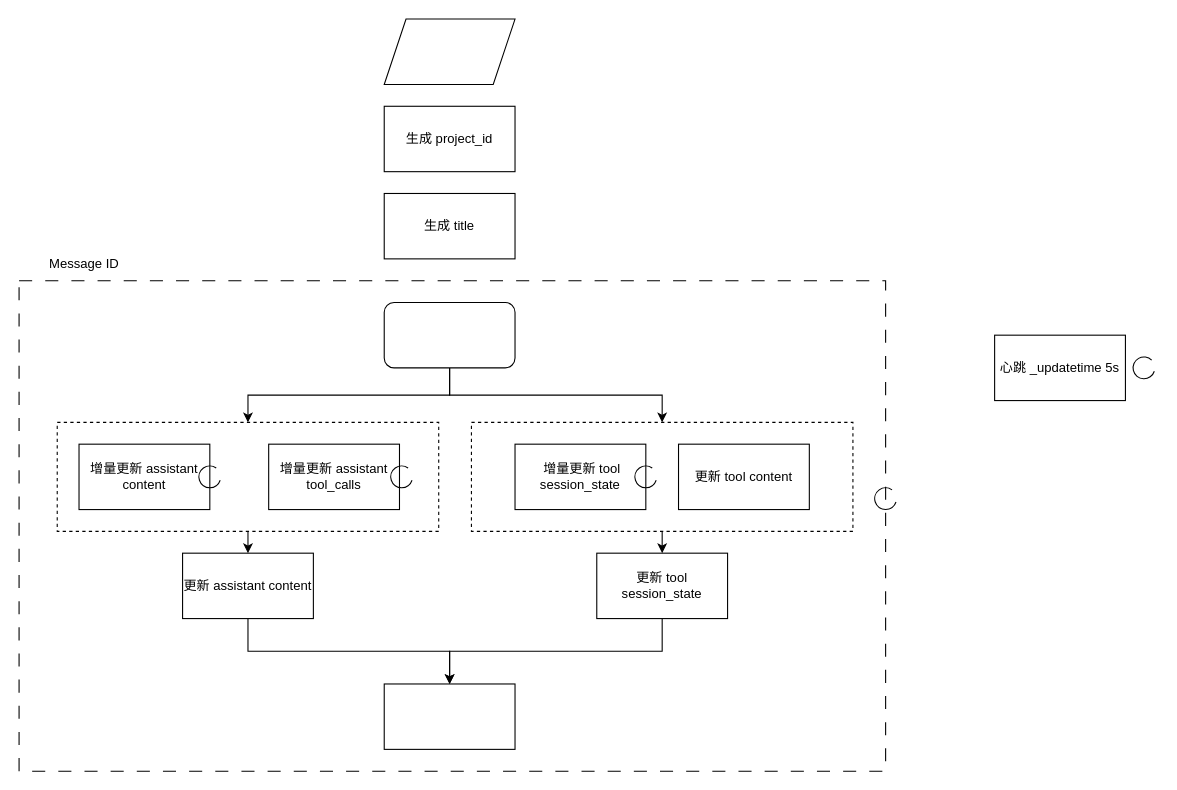
Some shapes in this 1177 by 790 pixel diagram are drawn without their labels. The shapes that lost their labels are listed below. From the top down, each one's centre as x and y in pixels, then its label:
the point at 449,51: User Input
the point at 449,334: message_start
the point at 449,716: 更新 message message_result
